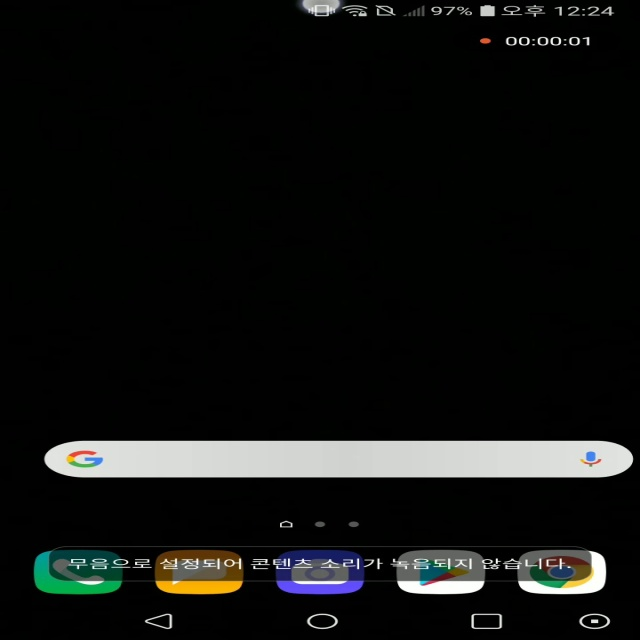Cursor: (300, 1, 344, 16)
